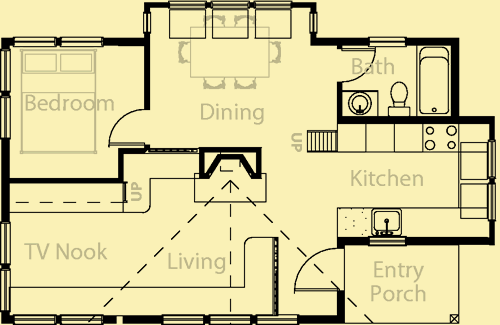bed: (20, 50, 97, 156)
dining_table: (176, 15, 282, 91)
door: (291, 247, 343, 291), (105, 107, 147, 145), (335, 46, 378, 83)
large_sink: (384, 79, 414, 118)
sink: (370, 208, 403, 236)
small_sink: (342, 90, 380, 117)
stairs: (305, 129, 338, 156)
tub: (415, 45, 453, 119)
window: (162, 315, 303, 325), (486, 139, 499, 222), (11, 36, 103, 47), (1, 223, 12, 311), (13, 315, 102, 325), (369, 36, 408, 50)
